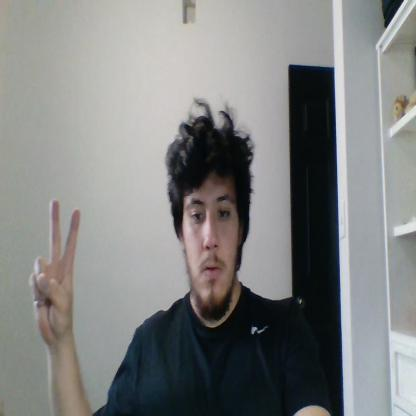V: (30, 200, 80, 344)
